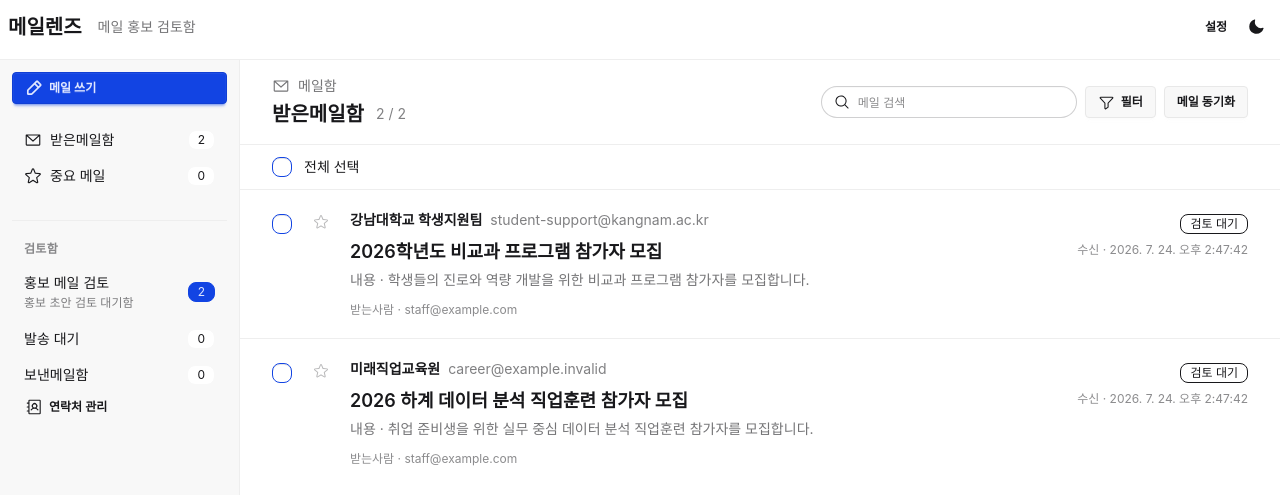
Scenario: shows mail search and draft creation controls
Expected: the heading "받은메일함" is shown, x1=272 y1=100 x2=364 y2=128
Click the button "홍보 메일 검토 홍보 초안 검토 대기함 2": (120, 292) x1=12 y1=265 x2=227 y2=319
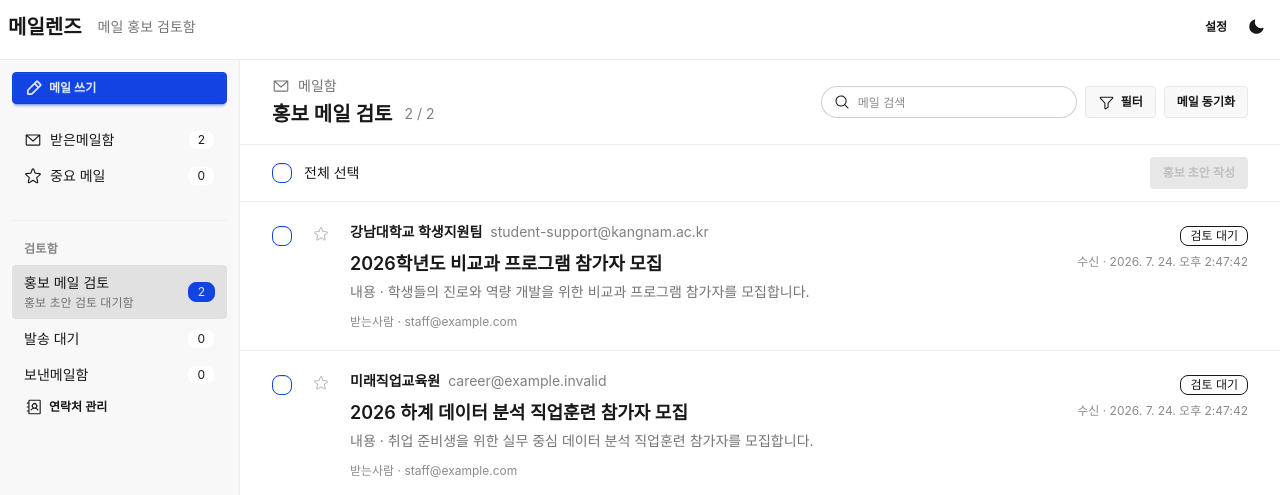
Expected: the heading "홍보 메일 검토" is shown, x1=272 y1=100 x2=392 y2=128
Expected: the button "홍보 초안 작성" is disabled, x1=1150 y1=157 x2=1248 y2=189
Click the button "발송 대기 0": (120, 339) x1=12 y1=323 x2=227 y2=355
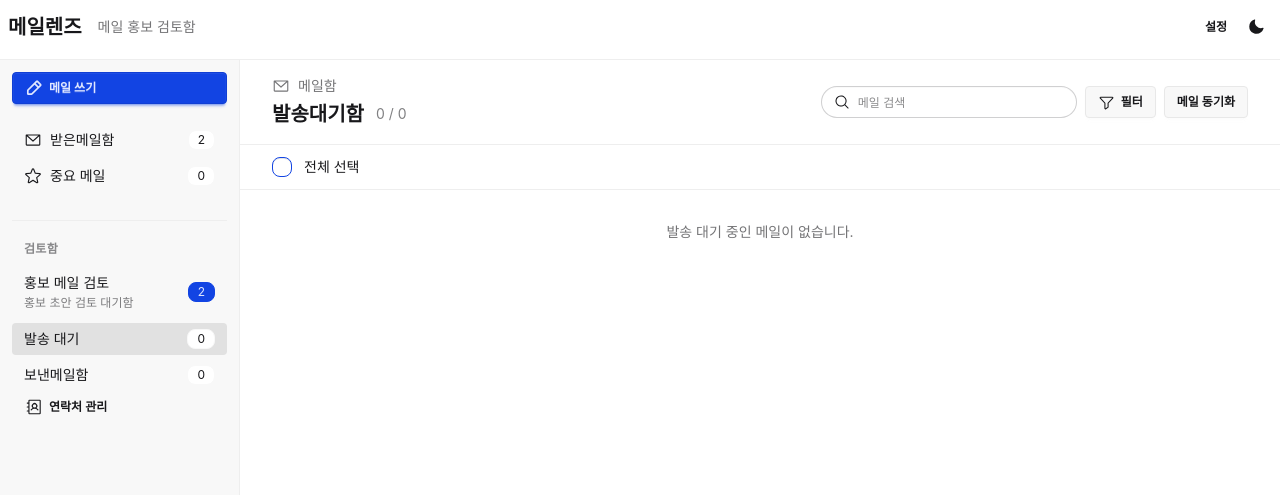
Expected: the heading "발송대기함" is shown, x1=272 y1=100 x2=364 y2=128
